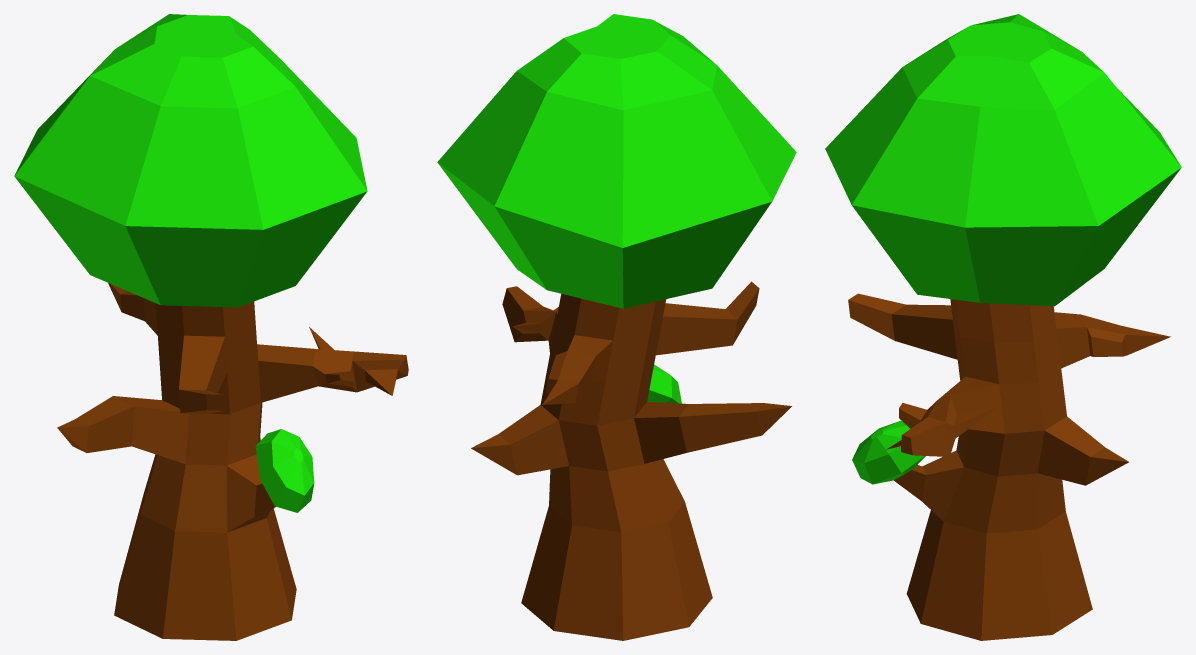
File: F_Tree.fbx
3 renders of one model, left to right at view 1: azimuth 30°, elevation 25°; view 2: azimuth 150°, elevation 25°; view 3: azimuth 270°, elevation 25°, orthographic.
Parts seen in each view (by area): view 1: F_Tree; view 2: F_Tree; view 3: F_Tree.
Boxes of the visible parts, x1,y1,x2,y2 form: F_Tree: (14, 14, 408, 640); F_Tree: (437, 14, 796, 640); F_Tree: (825, 14, 1181, 640).
Size of the model in its own units: 717 by 1165 by 676.
